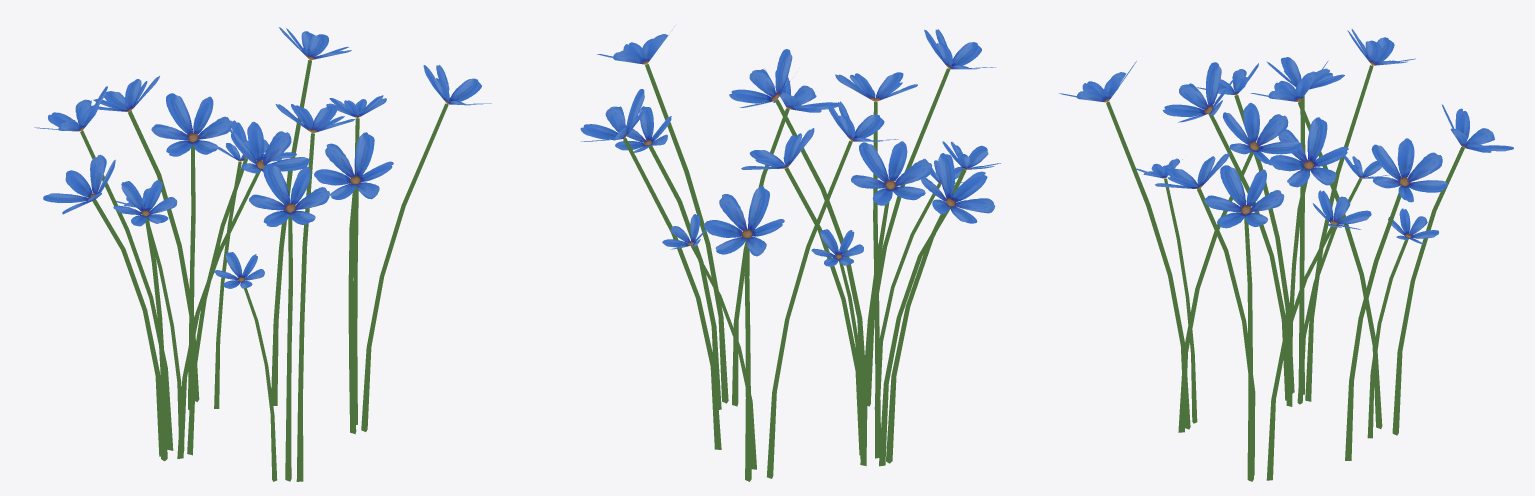
File: SM_Flower_03_03.fbx
3 renders of one model, left to right at view 1: azimuth 30°, elevation 25°; view 2: azimuth 150°, elevation 25°; view 3: azimuth 270°, elevation 25°, orthographic. The views are drawn at different scales.
Visible parts, largest first — view 1: SM_Flower_03_03_LOD0; view 2: SM_Flower_03_03_LOD0; view 3: SM_Flower_03_03_LOD0.
Boxes of the visible parts, x1,y1,x2,y2 form: SM_Flower_03_03_LOD0: [34, 27, 491, 481]; SM_Flower_03_03_LOD0: [580, 26, 1000, 481]; SM_Flower_03_03_LOD0: [1058, 29, 1513, 481].
Size of what is drawn, in the model's own units: 83.87 by 64.75 by 76.11.
